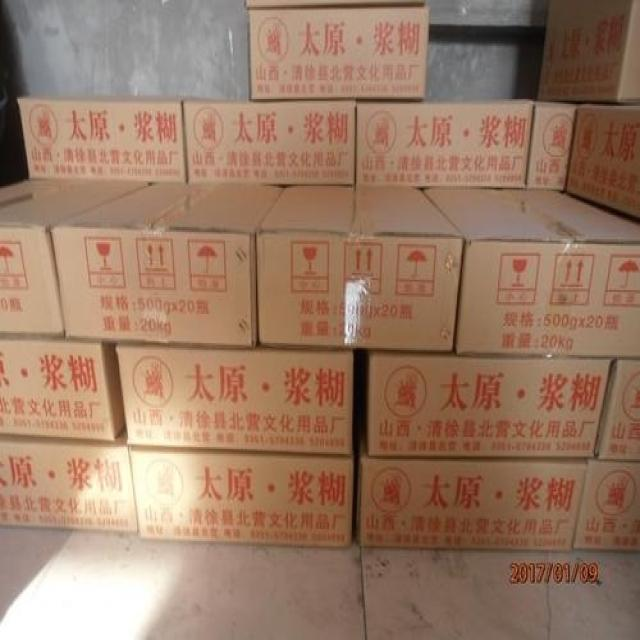box: (49, 181, 286, 347), (423, 187, 639, 357), (257, 186, 465, 352), (357, 425, 588, 549), (114, 339, 354, 457), (367, 352, 614, 457), (0, 175, 152, 335), (130, 447, 353, 545), (249, 6, 428, 99), (355, 99, 535, 190), (0, 429, 137, 538), (184, 98, 355, 184), (19, 96, 190, 179), (0, 334, 125, 440), (536, 2, 638, 100), (564, 100, 639, 222), (573, 458, 639, 550), (527, 101, 580, 188), (597, 357, 639, 461)
